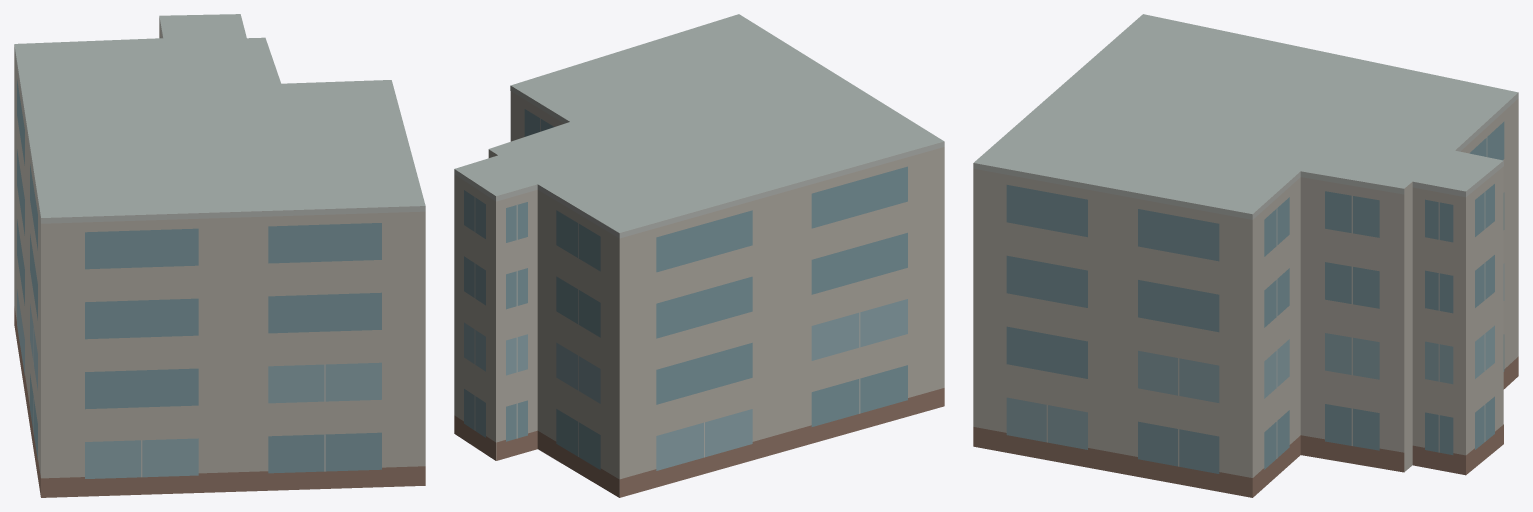
Rendered from survey-upis-32884376.glb.
The picture shows the model from 3 angles, left to right: view 1: azimuth 30°, elevation 25°; view 2: azimuth 150°, elevation 25°; view 3: azimuth 270°, elevation 25°; orthographic projection. The views are drawn at different scales.
Visible parts, largest first — view 1: survey-upis-32884376.tmp; view 2: survey-upis-32884376.tmp; view 3: survey-upis-32884376.tmp.
Part boxes in pixels (x1,y1,x2,y2): survey-upis-32884376.tmp: (14, 14, 425, 497); survey-upis-32884376.tmp: (454, 14, 944, 497); survey-upis-32884376.tmp: (973, 14, 1518, 497).
Bounding box in the file's own units: 18.17 × 12 × 20.91.
